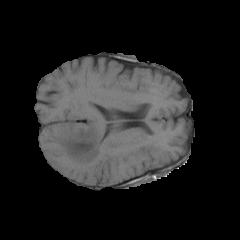glioma: (43, 116, 126, 175)
